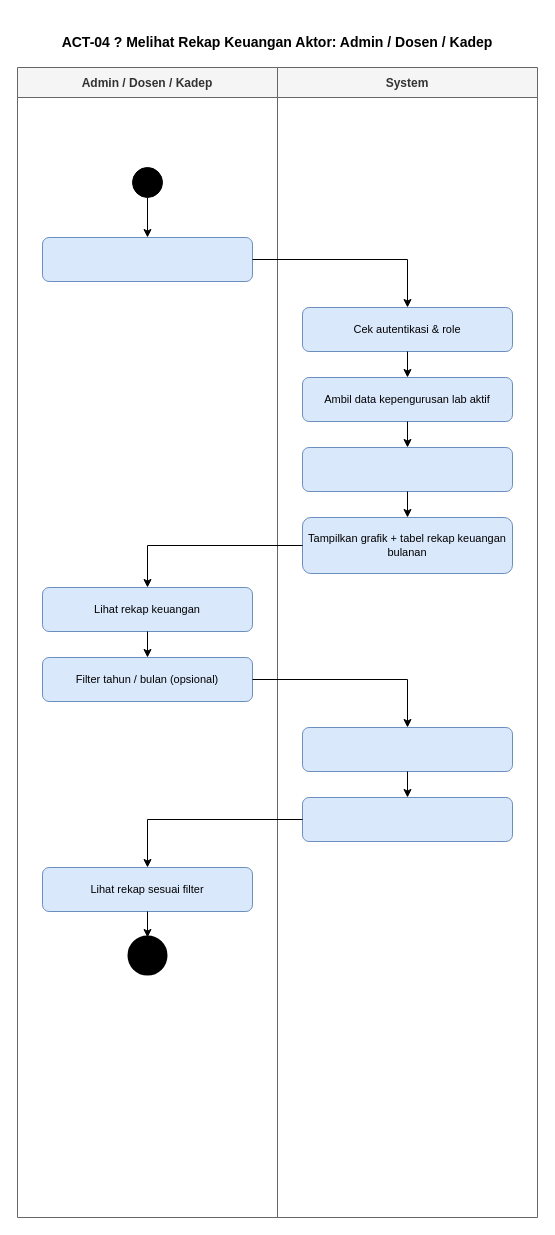
Some shapes in this 555 by 1235 pixel diagram are drawn without their labels. Here are the shapes that lost their labels. From the top down, the centre of each, then its label:
At point (147, 259): "Buka menu Rekap Keuangan".
At point (407, 469): "Ambil data ringkasan bulanan:".
At point (407, 749): "Perbarui tampilan sesuai filter".
At point (407, 819): "Perbarui tampilan".
